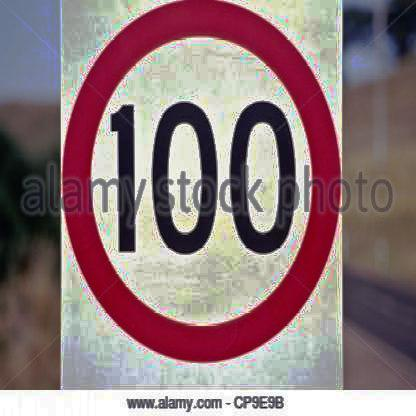Speed Limit -100-: (58, 0, 344, 368)
